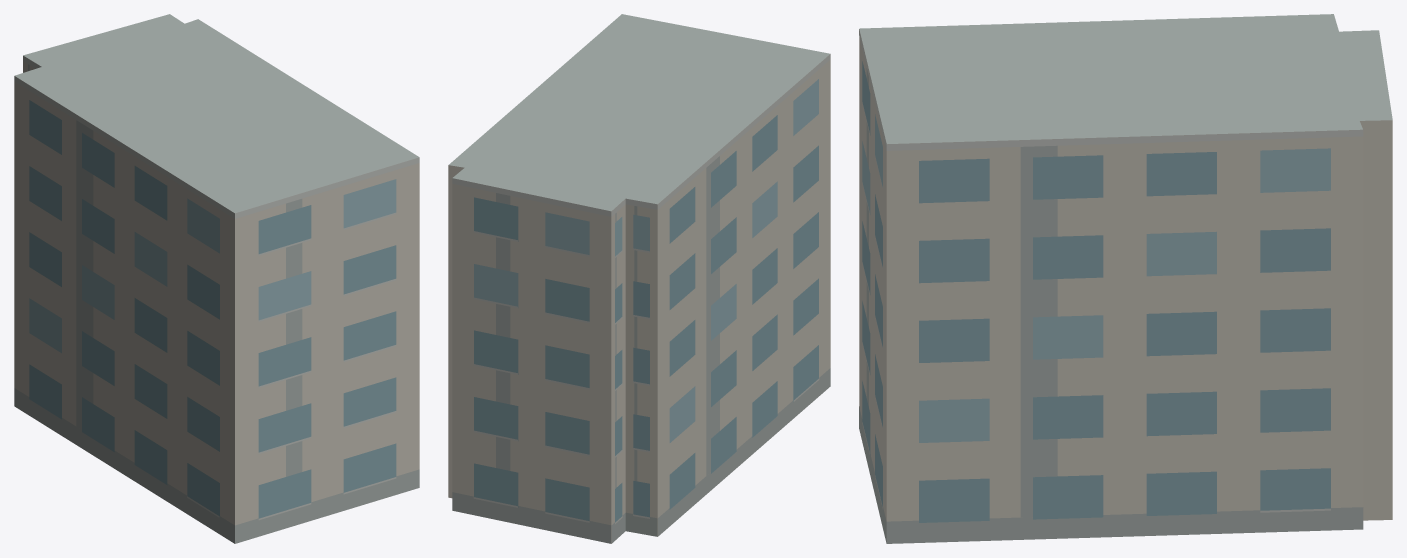
Rendered from survey-upis-32898587.glb.
3 renders of one model, left to right at view 1: azimuth 30°, elevation 25°; view 2: azimuth 150°, elevation 25°; view 3: azimuth 270°, elevation 25°, orthographic. The views are drawn at different scales.
Visible parts, largest first — view 1: survey-upis-32898587.tmp; view 2: survey-upis-32898587.tmp; view 3: survey-upis-32898587.tmp.
Boxes of the visible parts, x1,y1,x2,y2 form: survey-upis-32898587.tmp: (14,14,419,543); survey-upis-32898587.tmp: (448,14,830,543); survey-upis-32898587.tmp: (859,14,1392,543).
Size of the model in its own units: 9.99 by 14.3 by 17.31.
